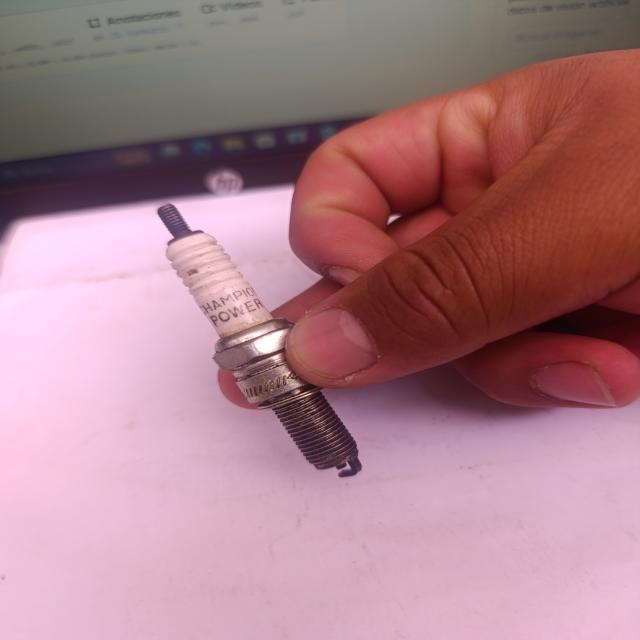bujia: (158, 204, 362, 477)
